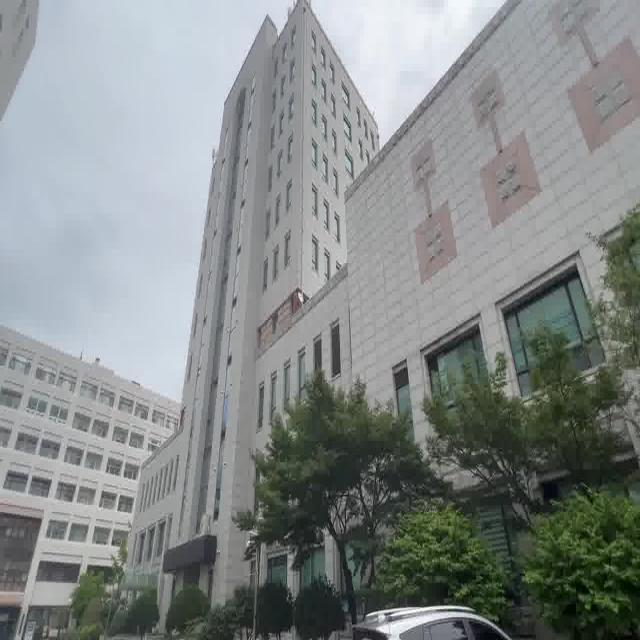building: (198, 10, 564, 358)
